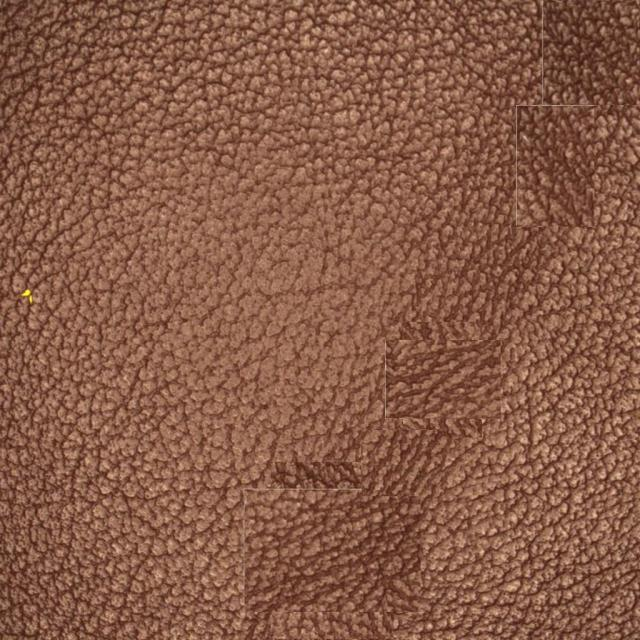Healed Injury: (385, 202, 548, 415), (250, 444, 444, 552)
